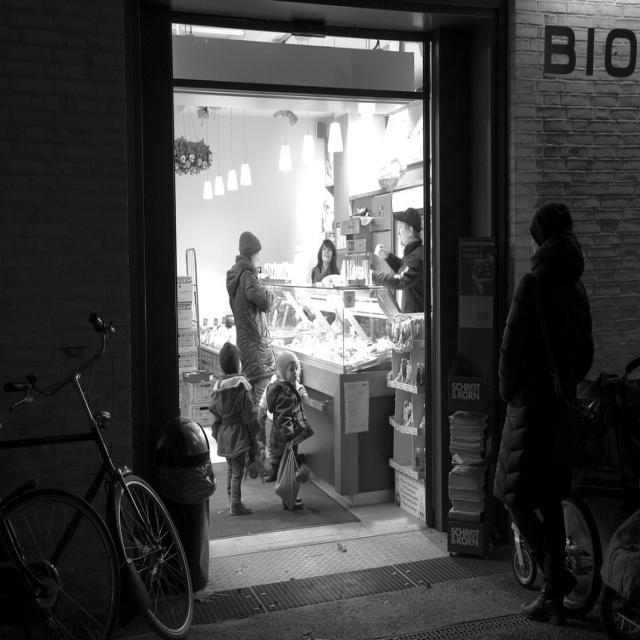Bicycle: (0, 301, 207, 640)
People: (486, 177, 598, 638), (261, 345, 315, 514), (210, 344, 258, 531), (224, 228, 274, 369), (375, 207, 433, 322), (311, 234, 341, 296)
